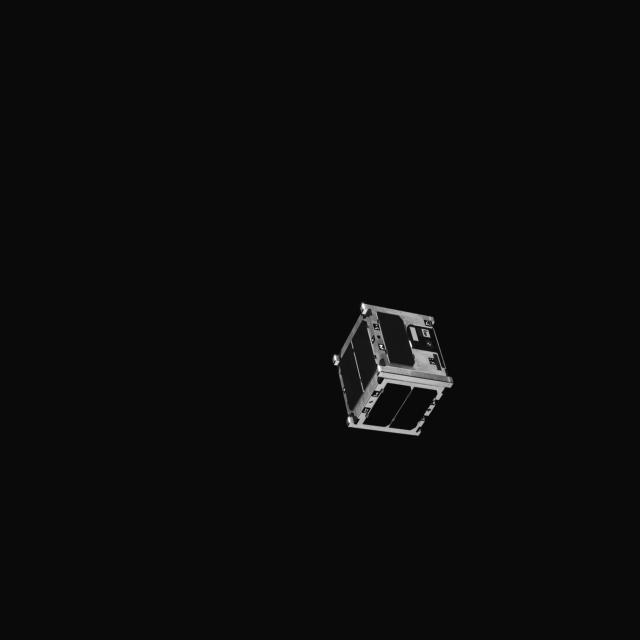satellite: (322, 300, 450, 442)
